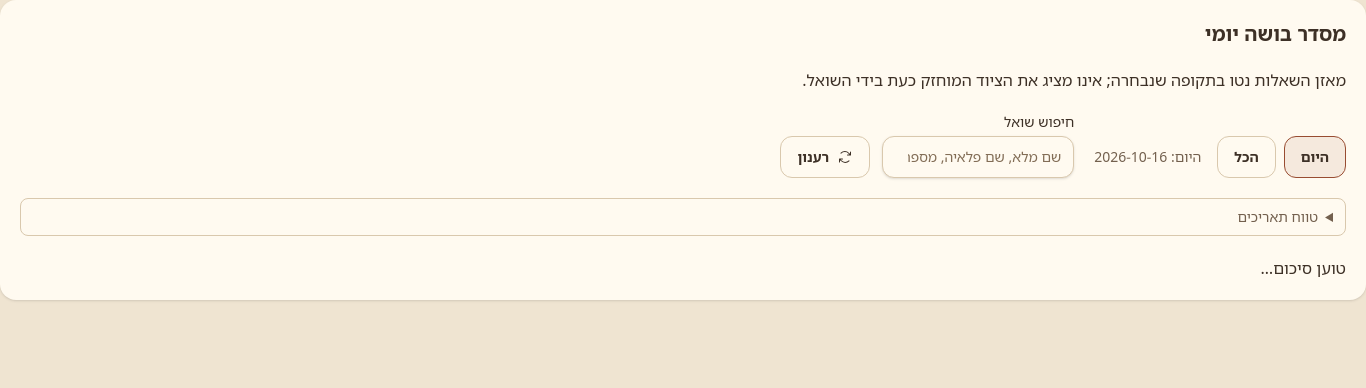
Test: period summary view › ignores a superseded rejection without a toast or changing the newer result
Click the button "הכל" at [1246, 157], box left=1217, top=136, right=1276, bottom=178
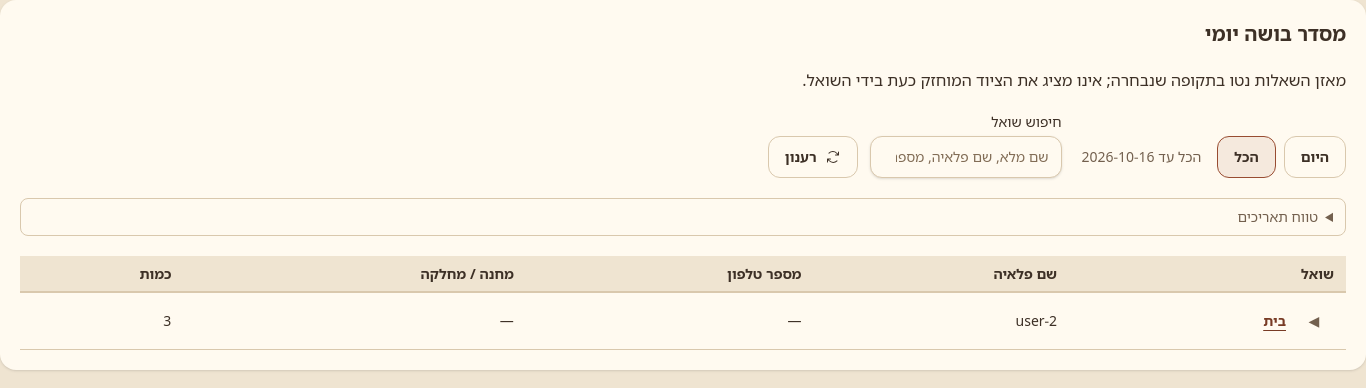
Result: the button "בית" is shown at left=1263, top=301, right=1286, bottom=341
Result: the text "טוען סיכום…" is gone
